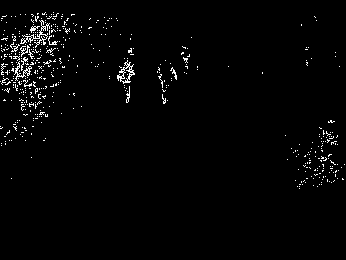person: (153, 57, 178, 105), (117, 49, 135, 103), (177, 42, 193, 74)
